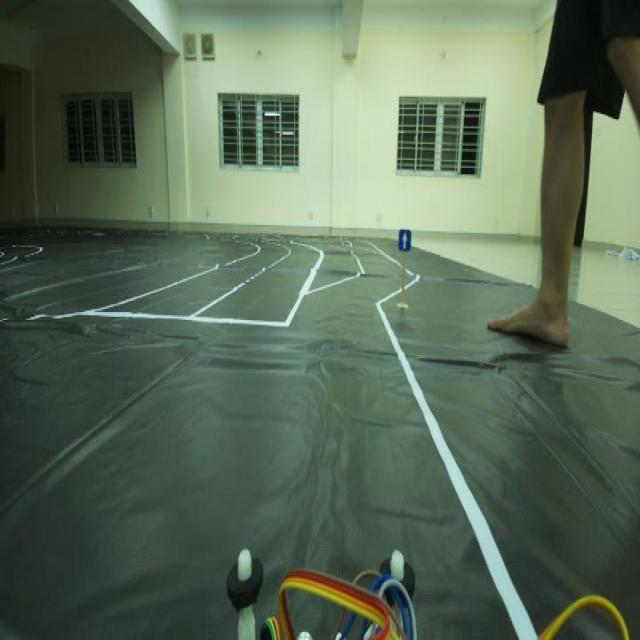onewayroad: (390, 220, 412, 260)
